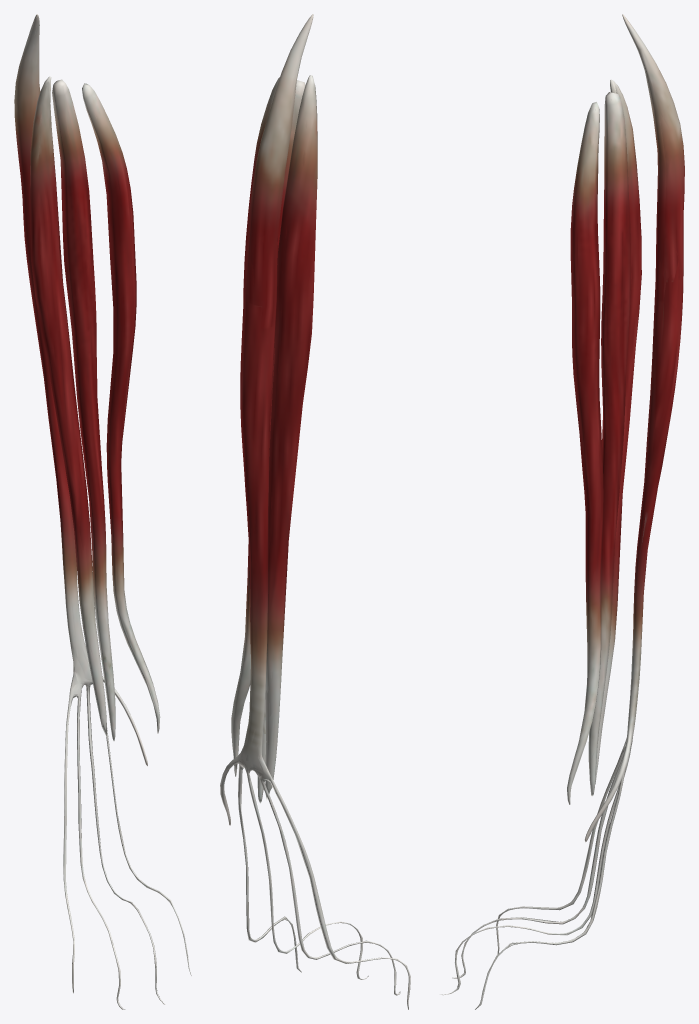
The model's file is R Flexor digitorum profundus.fbx.
3 views of the same model, side by side, from view 1: azimuth 30°, elevation 25°; view 2: azimuth 150°, elevation 25°; view 3: azimuth 270°, elevation 25° (orthographic). The views are drawn at different scales.
Parts seen in each view (by area): view 1: R Flexor digitorum profundus, R Flexor digitorum profundus low, R Flexor digitorum profundus high; view 2: R Flexor digitorum profundus, R Flexor digitorum profundus low, R Flexor digitorum profundus high; view 3: R Flexor digitorum profundus, R Flexor digitorum profundus low, R Flexor digitorum profundus high.
Part boxes in pixels (x1,y1,x2,y2): R Flexor digitorum profundus: (14, 14, 191, 1009); R Flexor digitorum profundus low: (14, 17, 188, 982); R Flexor digitorum profundus high: (20, 16, 190, 1008); R Flexor digitorum profundus: (220, 14, 410, 1009); R Flexor digitorum profundus low: (221, 37, 409, 1002); R Flexor digitorum profundus high: (222, 18, 409, 1004); R Flexor digitorum profundus: (440, 14, 684, 1009); R Flexor digitorum profundus low: (455, 18, 683, 993); R Flexor digitorum profundus high: (441, 18, 683, 1006).
Bounding box in the file's own units: 2 × 14.6 × 3.38.
